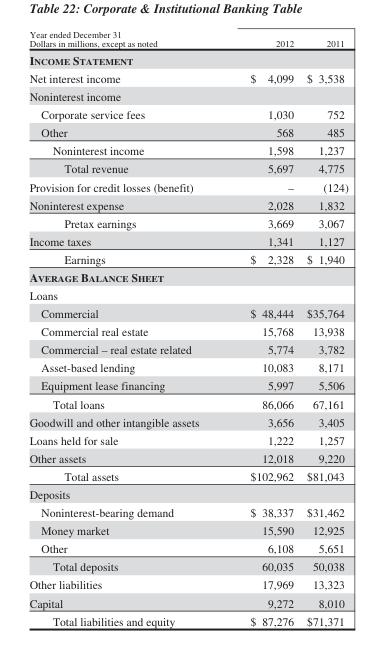table: (28, 28, 347, 627)
table column: (28, 28, 224, 627), (224, 28, 299, 627), (299, 28, 347, 627)
table column header: (28, 28, 347, 50)
table projected row header: (28, 267, 347, 286), (28, 50, 347, 68), (28, 87, 347, 105), (28, 286, 347, 304), (28, 485, 347, 503)
table row: (28, 28, 347, 50), (28, 68, 347, 87), (28, 267, 347, 286), (28, 466, 347, 485), (28, 50, 347, 68), (28, 87, 347, 105), (28, 105, 347, 123), (28, 123, 347, 141), (28, 141, 347, 159), (28, 159, 347, 177), (28, 177, 347, 195), (28, 195, 347, 213), (28, 213, 347, 231), (28, 231, 347, 249), (28, 249, 347, 267), (28, 286, 347, 304), (28, 304, 347, 322), (28, 322, 347, 340), (28, 340, 347, 358), (28, 358, 347, 376), (28, 376, 347, 394), (28, 394, 347, 412), (28, 412, 347, 430), (28, 430, 347, 448), (28, 448, 347, 466), (28, 485, 347, 503), (28, 503, 347, 521), (28, 521, 347, 539), (28, 539, 347, 557), (28, 557, 347, 575), (28, 575, 347, 593), (28, 593, 347, 611), (28, 611, 347, 627)
